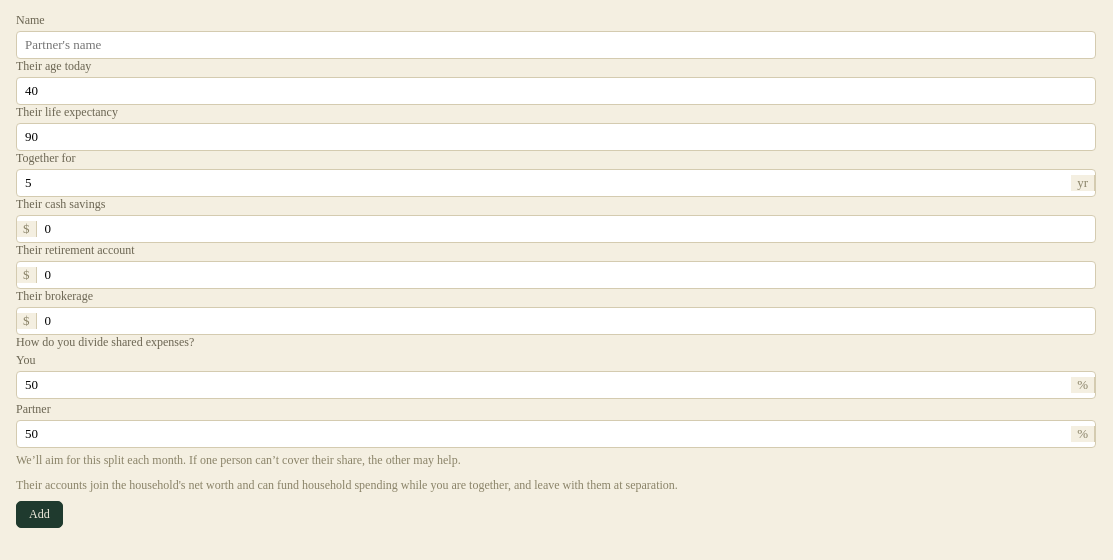
it: ExistingPartnerForm — bounds it states out loud › says so when it clamps, rather than quietly recording something else
Replace the text in the number field labelled "Their age today" with "20". click: (556, 91)
box: [17,78,1095,104]
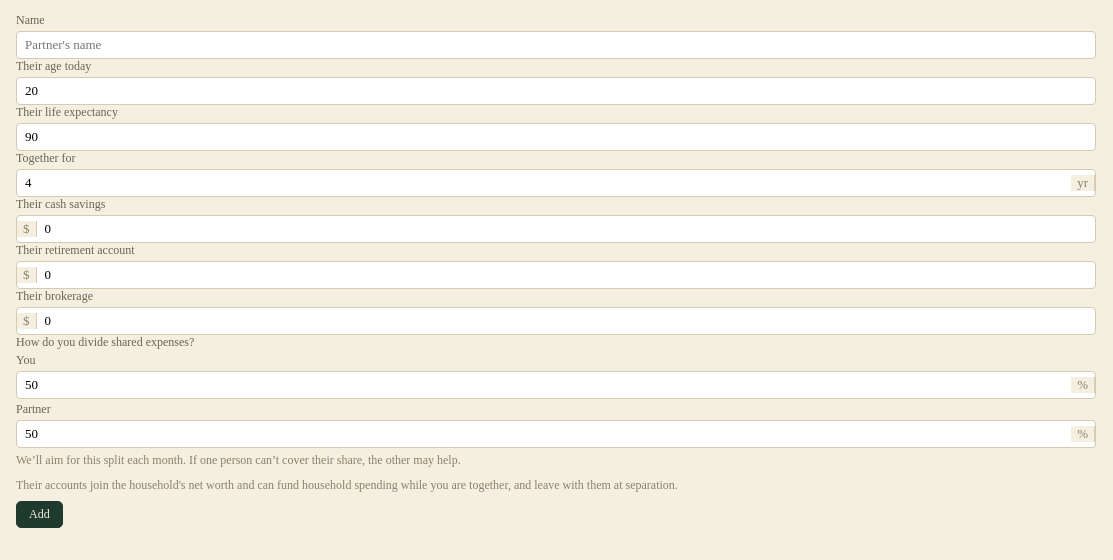
Replace the text in the number field labelled "Together for yr" with "30". click: (544, 183)
box: [17,170,1071,196]
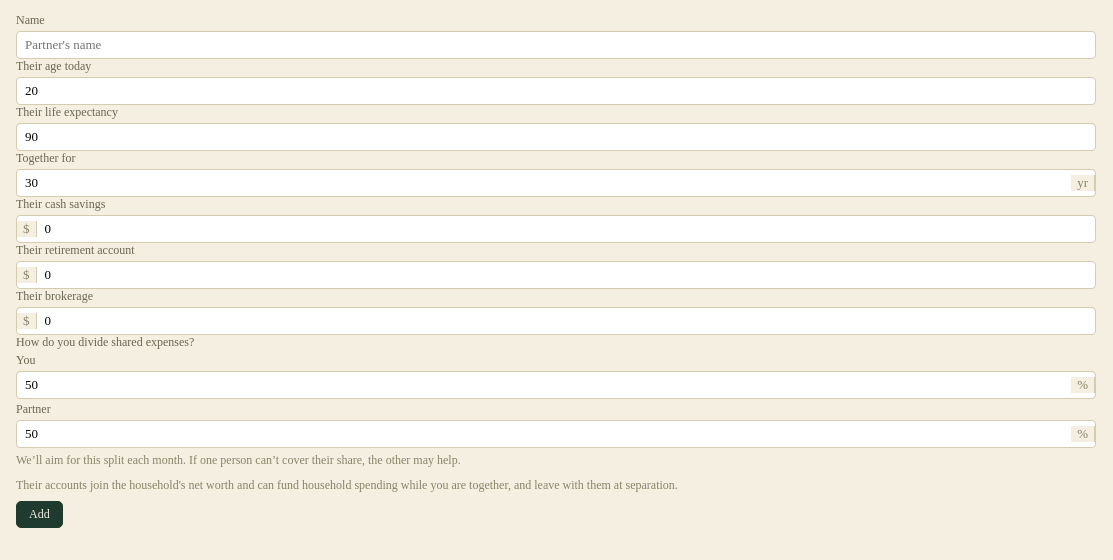
Leave the number field labelled "Together for yr", box [17,170,1071,196]
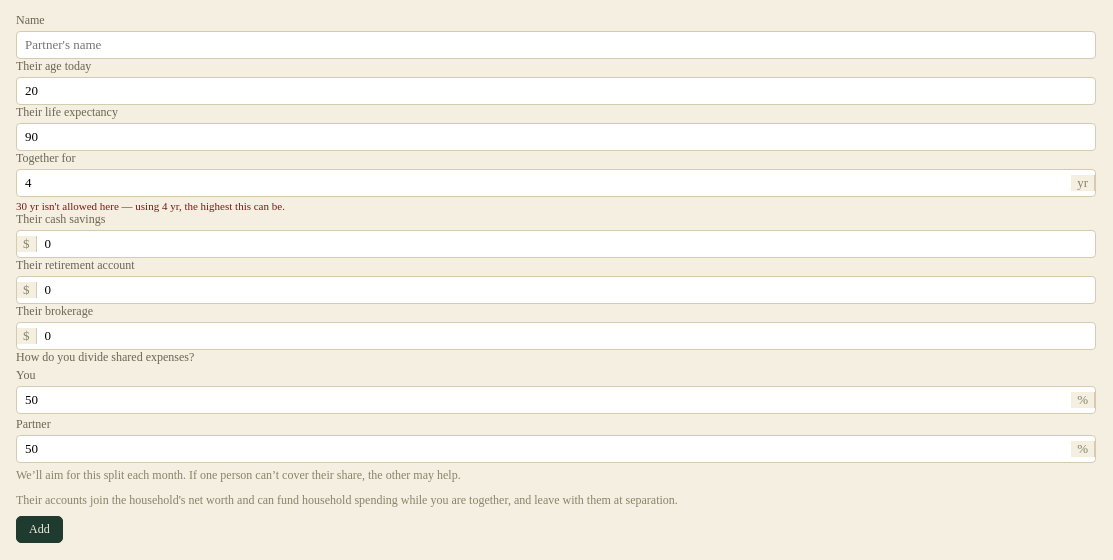
Expected: the text "30 yr isn't allowed here — using 4 yr, the highest this can be." is shown, [16,200,285,212]
